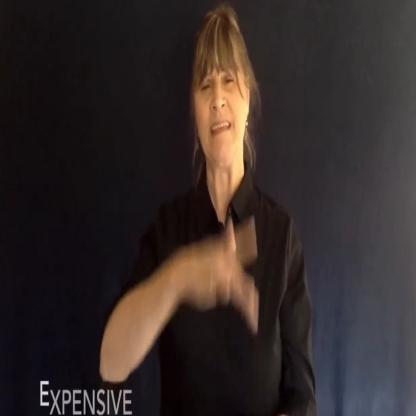Expensive: (174, 212, 294, 380)
